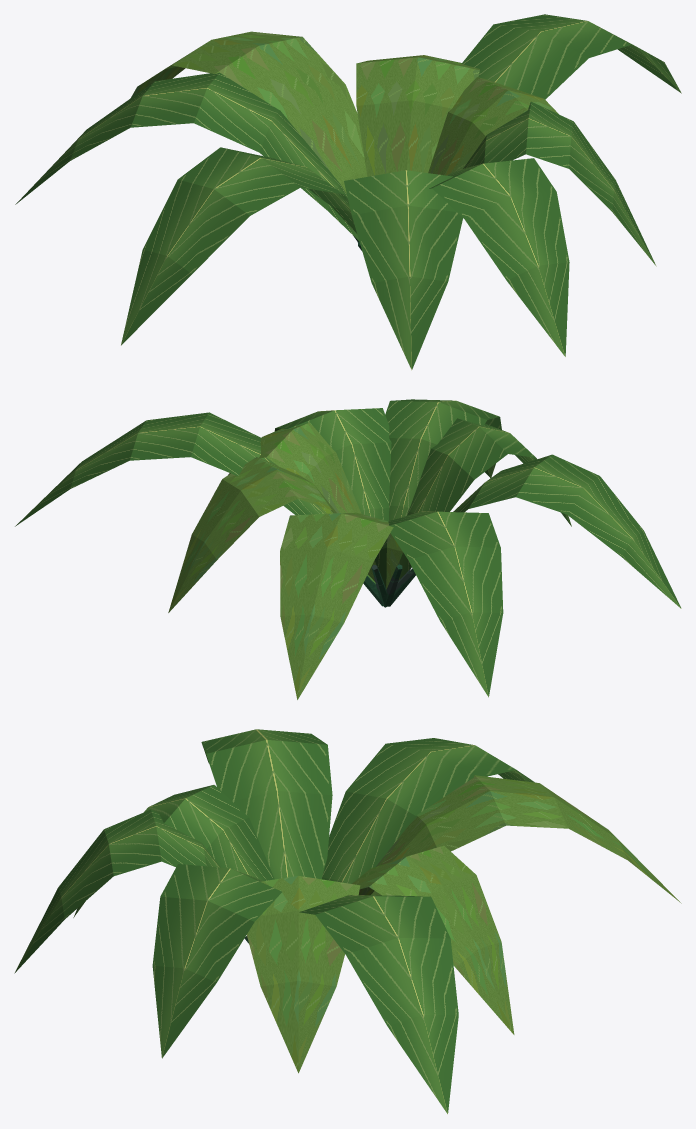
The model's file is broadleaf.glb.
3 views of the same model, one above another, from view 1: azimuth 30°, elevation 25°; view 2: azimuth 150°, elevation 25°; view 3: azimuth 270°, elevation 25° (orthographic). The views are drawn at different scales.
Parts seen in each view (by area): view 1: TropicalBlade; view 2: TropicalBlade; view 3: TropicalBlade.
Boxes of the visible parts, x1,y1,x2,y2 form: TropicalBlade: [15, 14, 681, 370]; TropicalBlade: [15, 399, 681, 699]; TropicalBlade: [14, 729, 681, 1114].
Bounding box in the file's own units: 2.23 × 0.6128 × 1.94.
3 materials, 3 textured.
